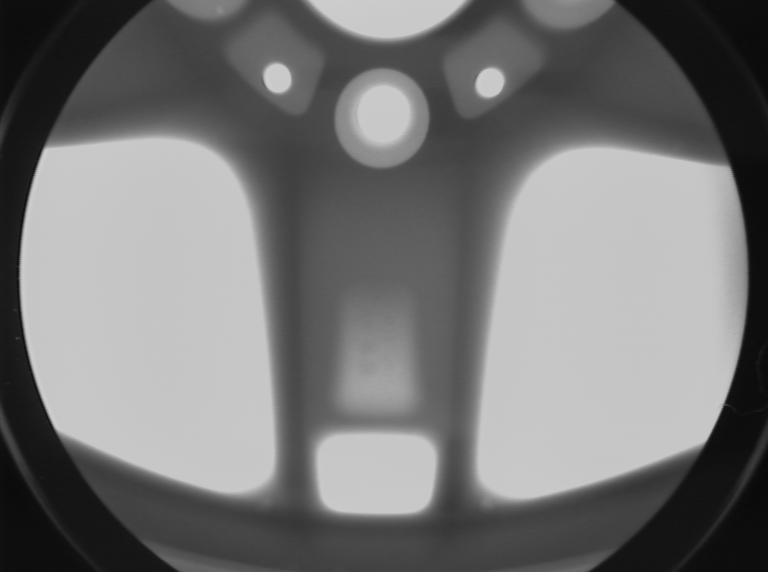defect: (215, 4, 229, 18)
